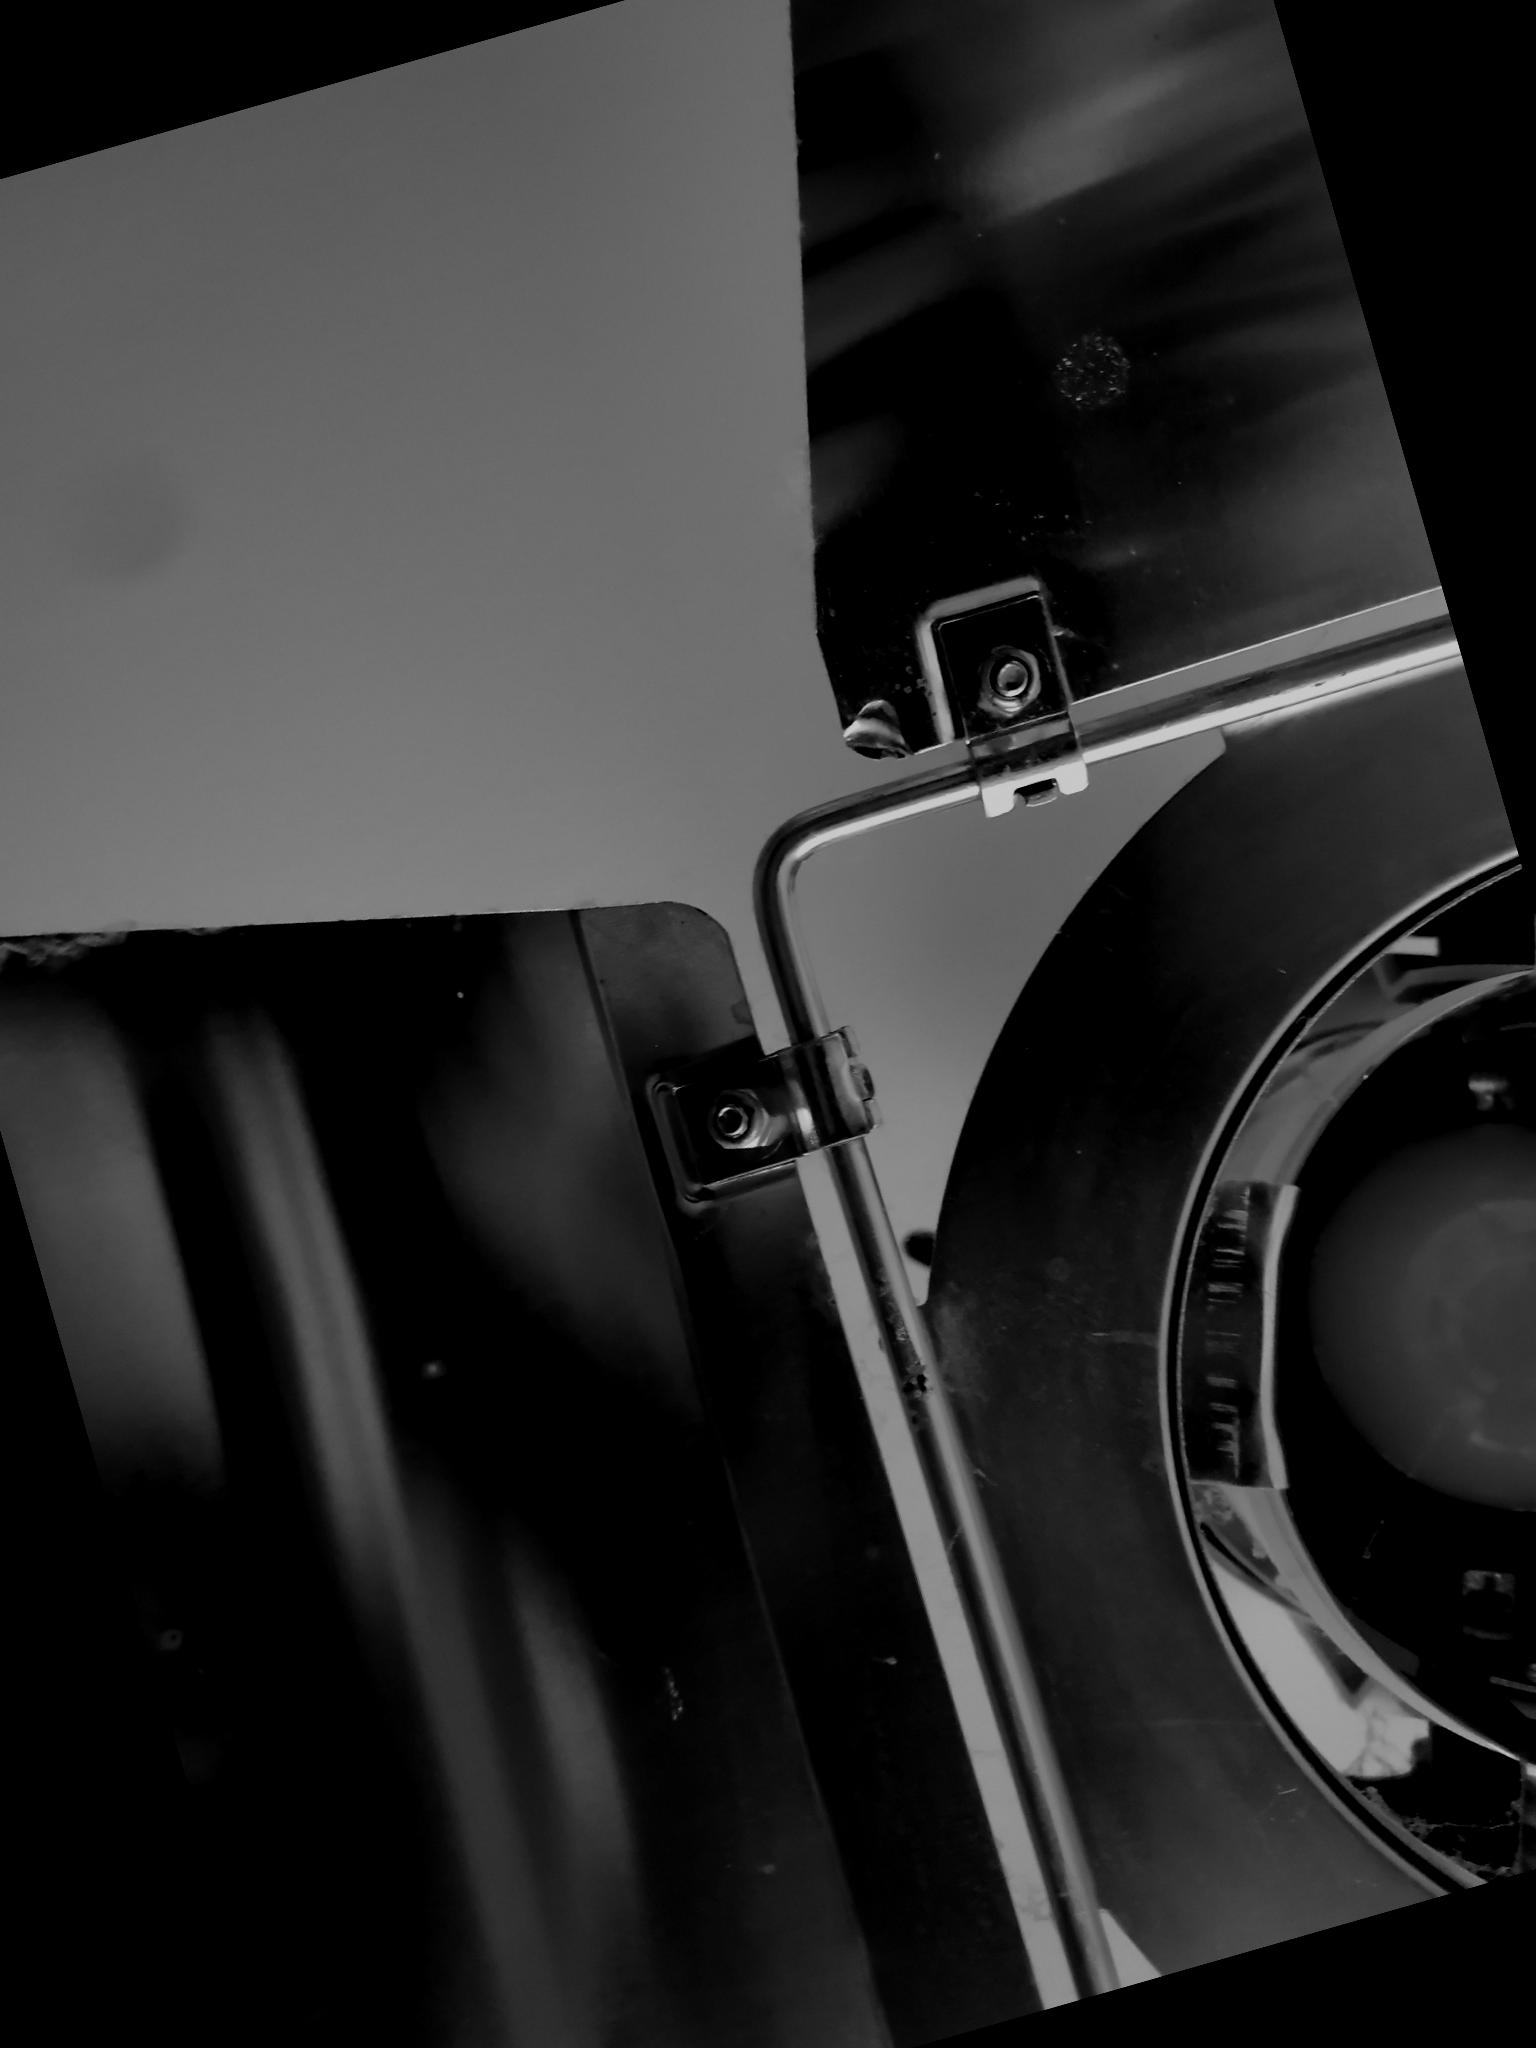screw: (957, 629, 1057, 729), (691, 1068, 786, 1164)
